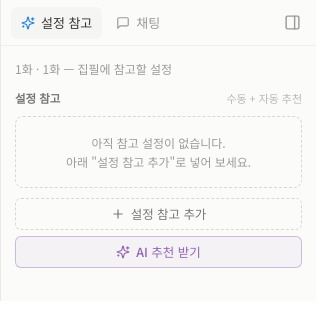
MemoryPanel · ChatTab › 스트리밍 중에는 입력이 비활성화되고 전송 버튼이 중단 버튼으로 바뀐다 (task #66)
Click the button "채팅".
click(138, 22)  # box left=106, top=6, right=170, bottom=38
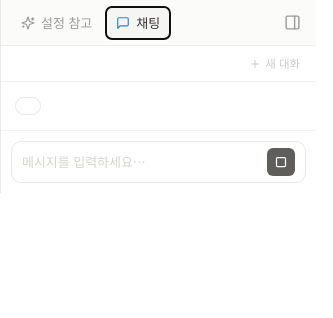
Check: the text box with placeholder "메시지를 입력하세요…" is disabled, box left=22, top=152, right=261, bottom=176
Check: the button named "생성 중단" is shown, box left=267, top=148, right=295, bottom=176
